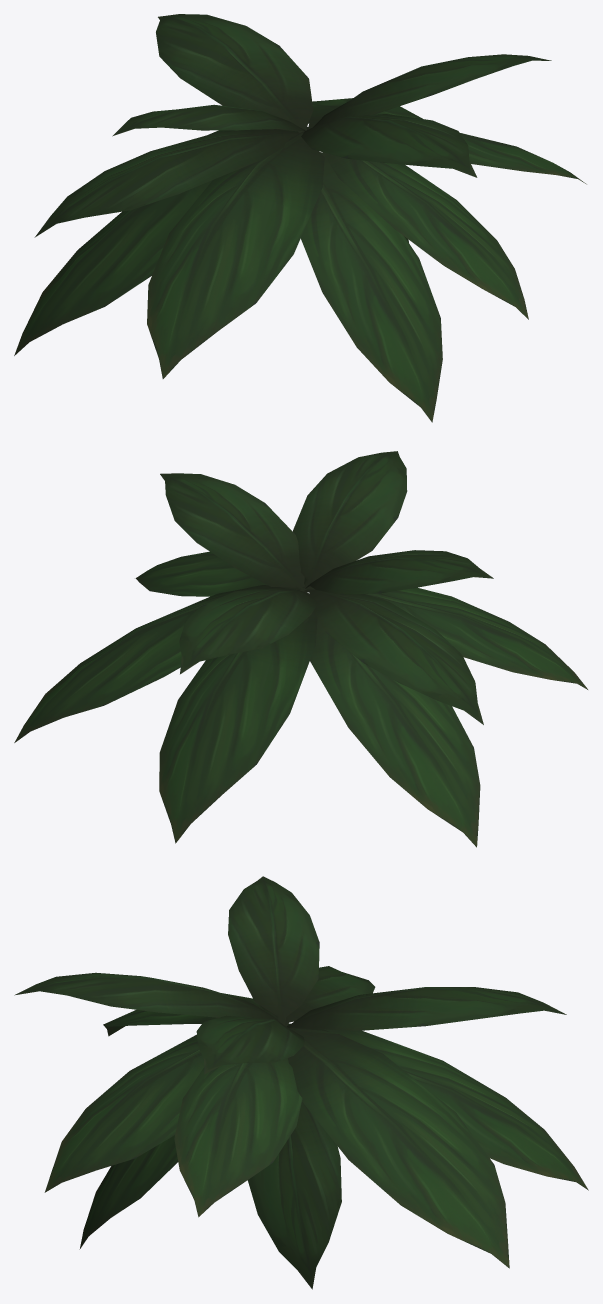
File: Palm_Fronds_04.fbx
The picture shows the model from 3 angles, top to bottom: view 1: azimuth 30°, elevation 25°; view 2: azimuth 150°, elevation 25°; view 3: azimuth 270°, elevation 25°; orthographic projection. The views are drawn at different scales.
Visible parts, largest first — view 1: Palm_Fronds_04; view 2: Palm_Fronds_04; view 3: Palm_Fronds_04.
Boxes of the visible parts, x1,y1,x2,y2 form: Palm_Fronds_04: (14, 14, 586, 422); Palm_Fronds_04: (14, 451, 587, 847); Palm_Fronds_04: (14, 876, 588, 1289).
Size of the model in its own units: 5.45 by 3.02 by 5.76.
1 material, 1 textured.
